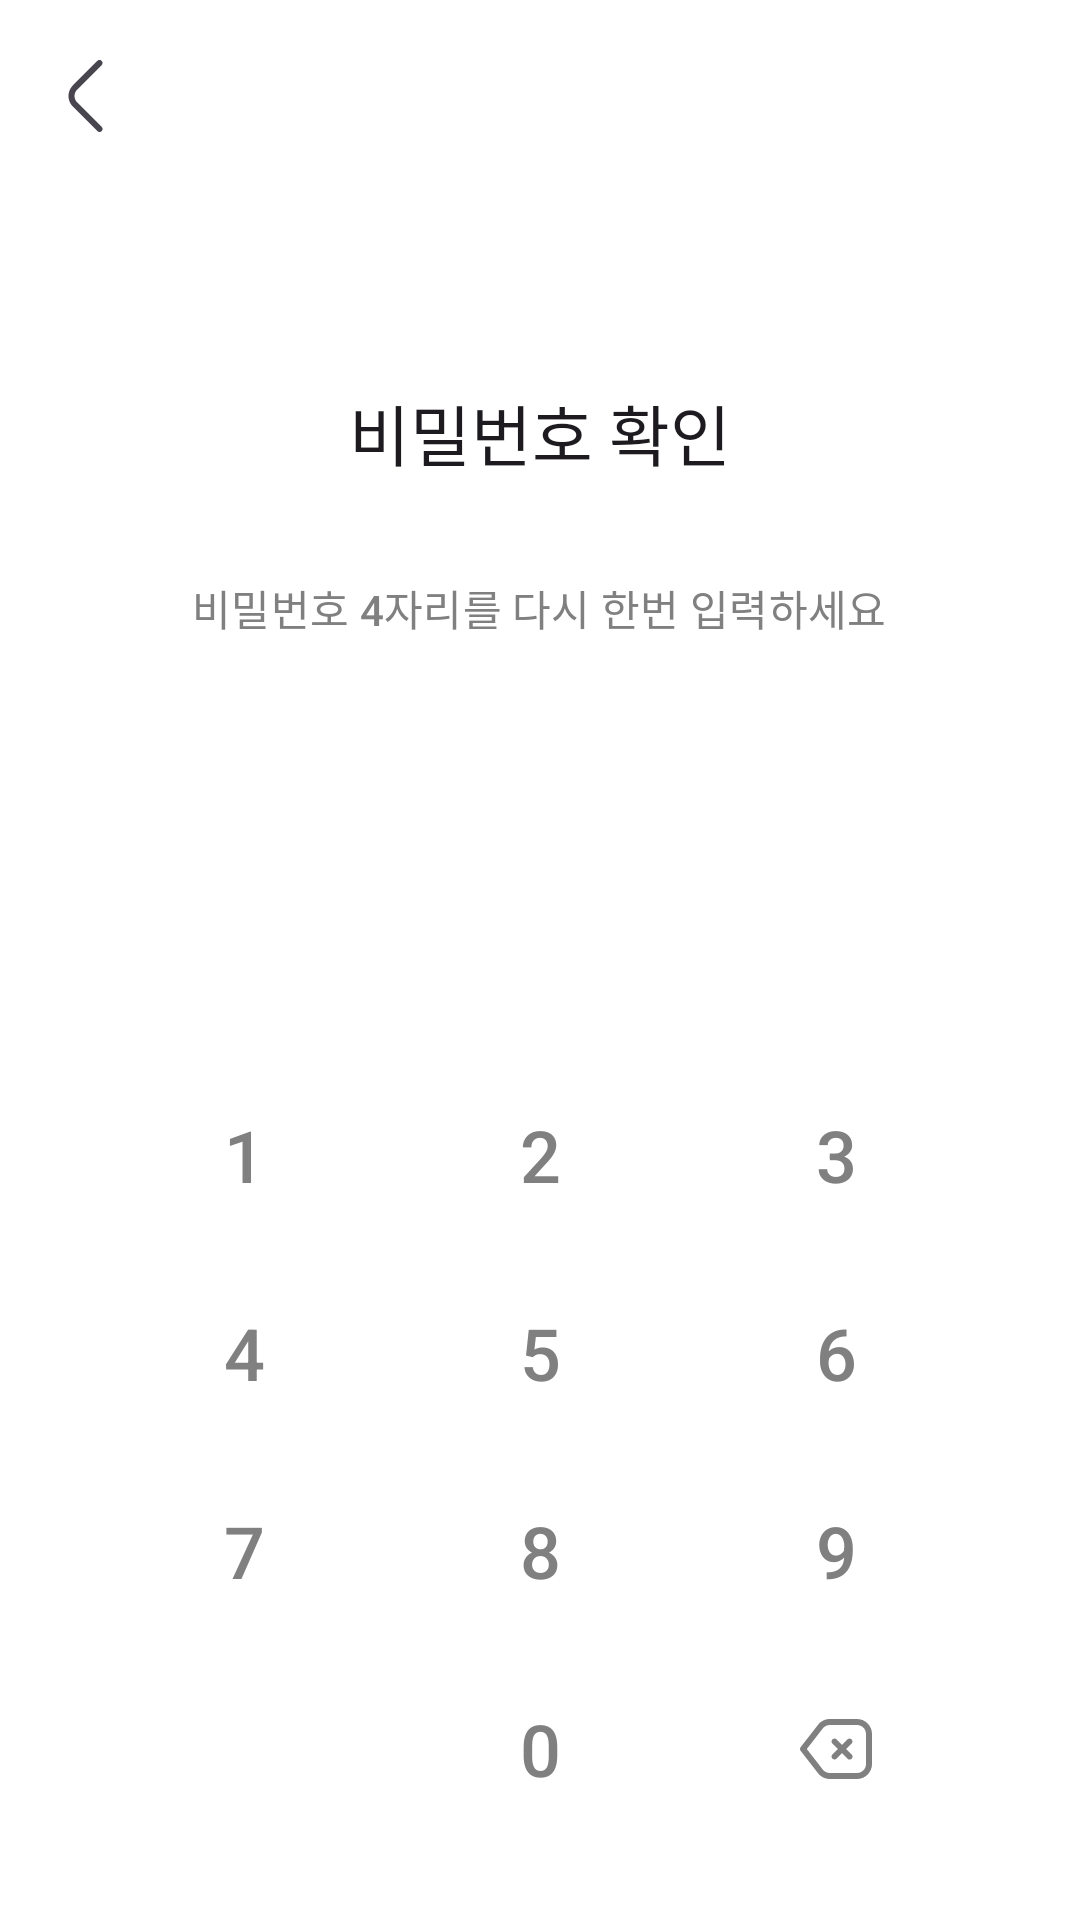

Icons on this 1080w x 1920h Android screen, each with the point to tap as (x=x, y=y):
clear: (x=836, y=1749)
